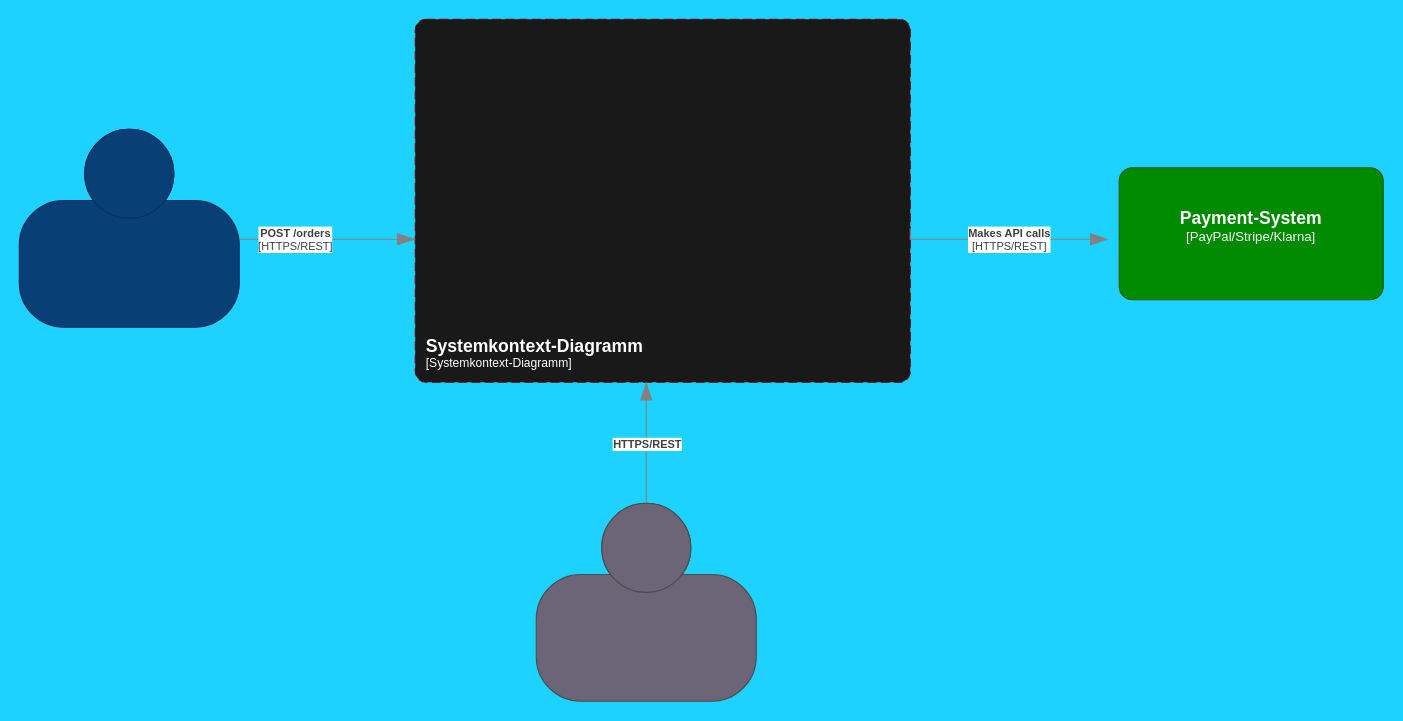
Image size: 1403x721. Some labels were removed from this diagram. The shapes that lost their labels are listed below. From the top down, each one's centre as x and y in pixels, then its label:
At point (128, 227): "Kunde [Person]".
At point (645, 601): "Admin [Person]".
